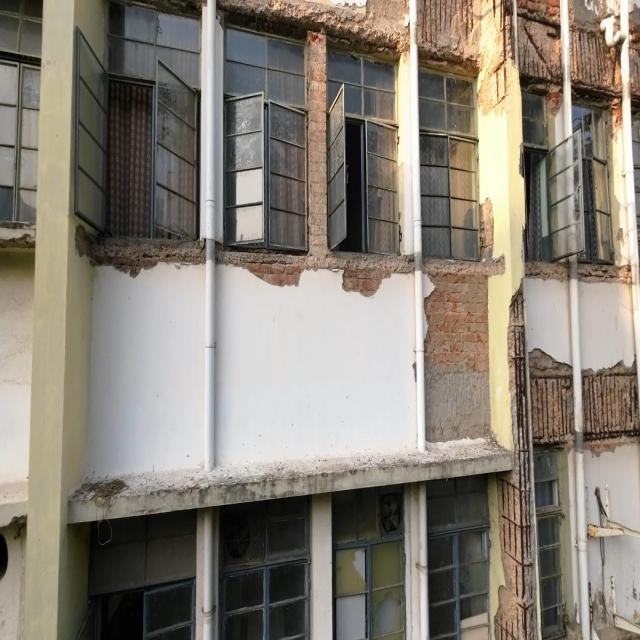spalling: (496, 290, 536, 639), (425, 270, 490, 440), (219, 0, 409, 55), (76, 228, 205, 268), (583, 363, 640, 440), (530, 350, 574, 446), (570, 27, 619, 98), (520, 14, 560, 82), (419, 0, 473, 47), (243, 263, 305, 286), (343, 267, 391, 296)
